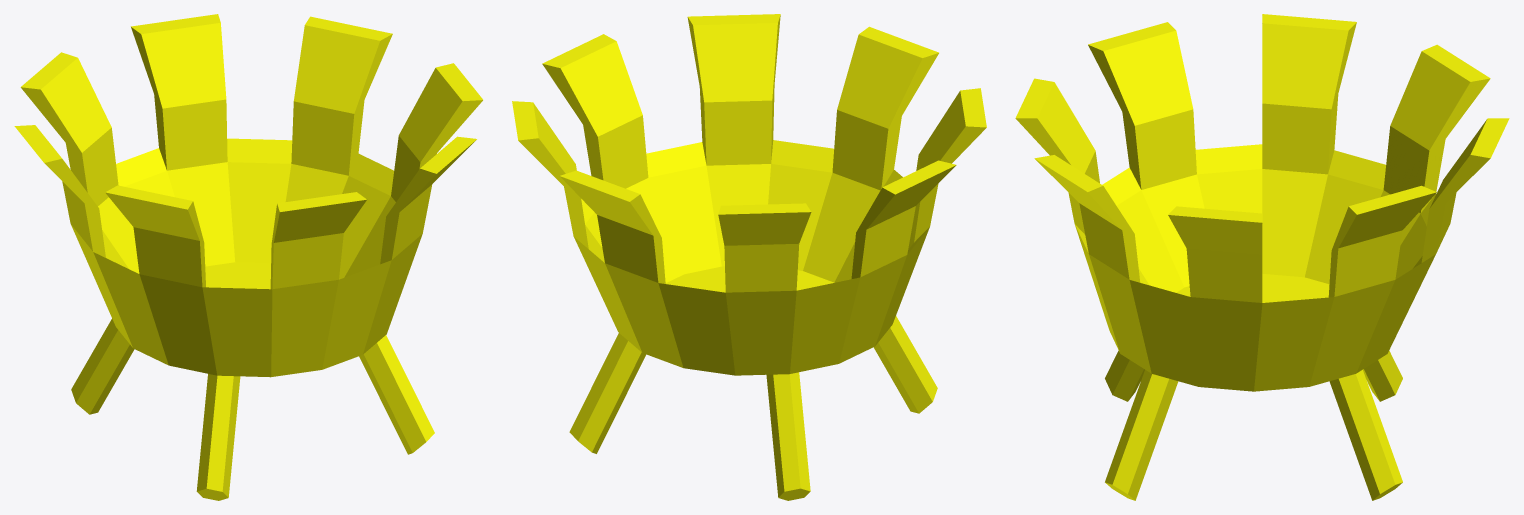
File: LightBrazier.glb
The picture shows the model from 3 angles, left to right: view 1: azimuth 30°, elevation 25°; view 2: azimuth 150°, elevation 25°; view 3: azimuth 270°, elevation 25°; orthographic projection. The views are drawn at different scales.
Parts seen in each view (by area): view 1: Brazier; view 2: Brazier; view 3: Brazier.
Part boxes in pixels (x1=…): Brazier: x1=14, y1=14, x2=482, y2=500; Brazier: x1=512, y1=14, x2=986, y2=500; Brazier: x1=1015, y1=14, x2=1509, y2=500.
Size of the model in its own units: 0.8828 by 0.6539 by 0.8828.
Materials: 1 (1 with a texture image).
